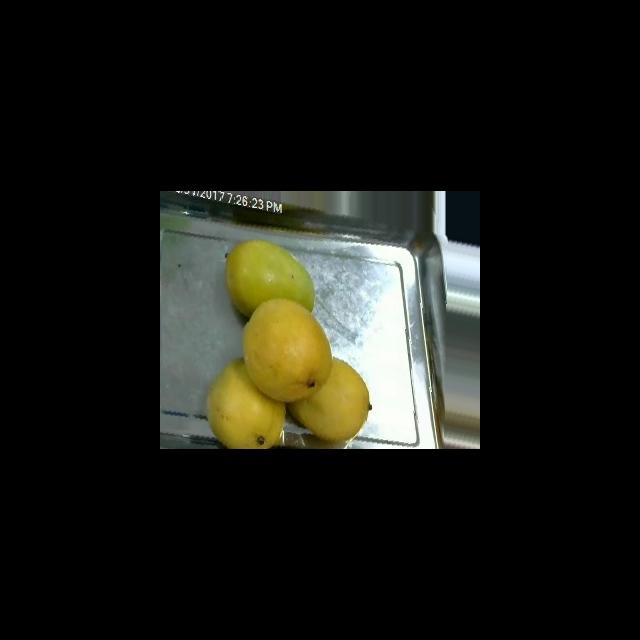mango: (242, 297, 332, 402), (287, 356, 371, 442), (206, 357, 285, 448), (225, 238, 315, 317)
